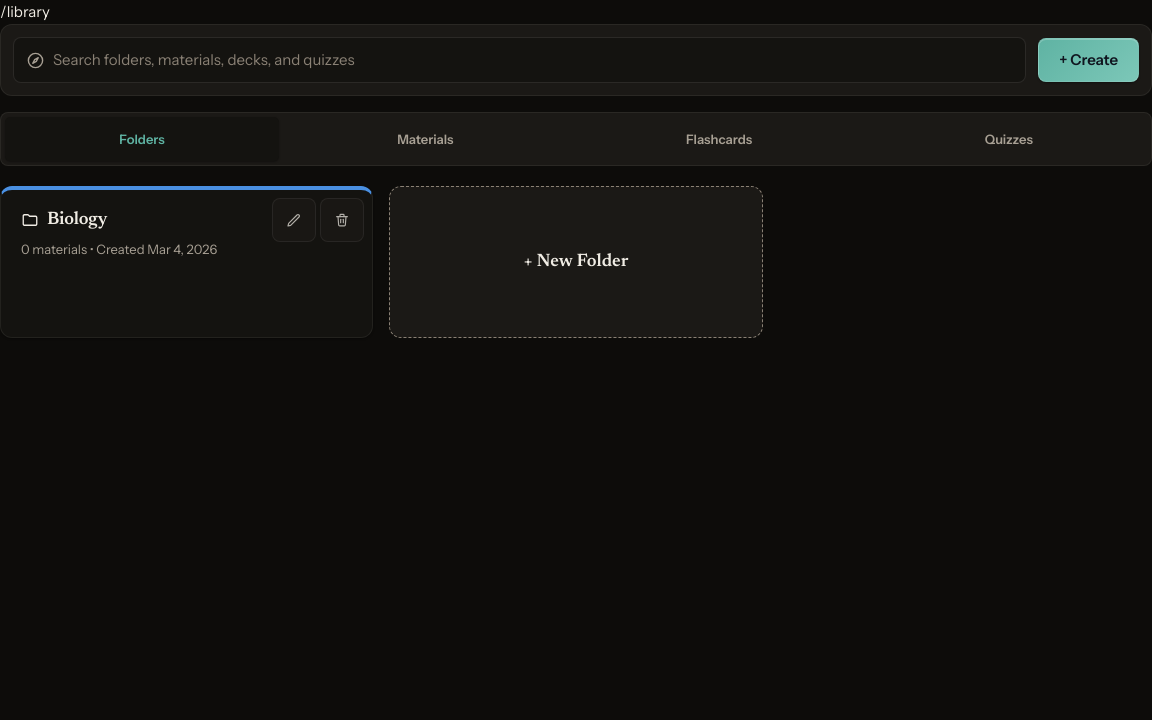
Test case: Library — Folders tab › warns what a folder delete takes with it, then deletes on confirm
The image size is (1152, 720).
Step 1. Click the button named "Delete Biology" → (342, 220), box [320, 198, 364, 242]
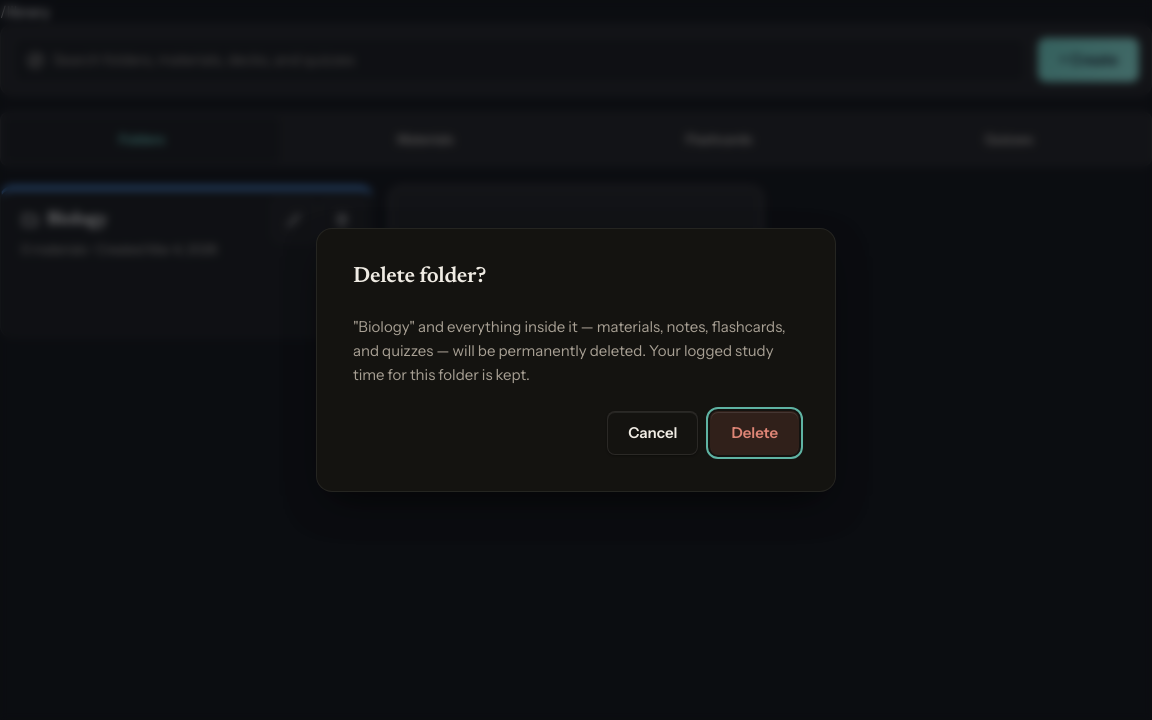
Result: the text "and everything inside it — materials, notes, flashcards, and quizzes — will be permanently deleted" is shown at [353, 317, 786, 384]
Step 2. Click the button "Delete" → (755, 433), box [710, 411, 799, 455]
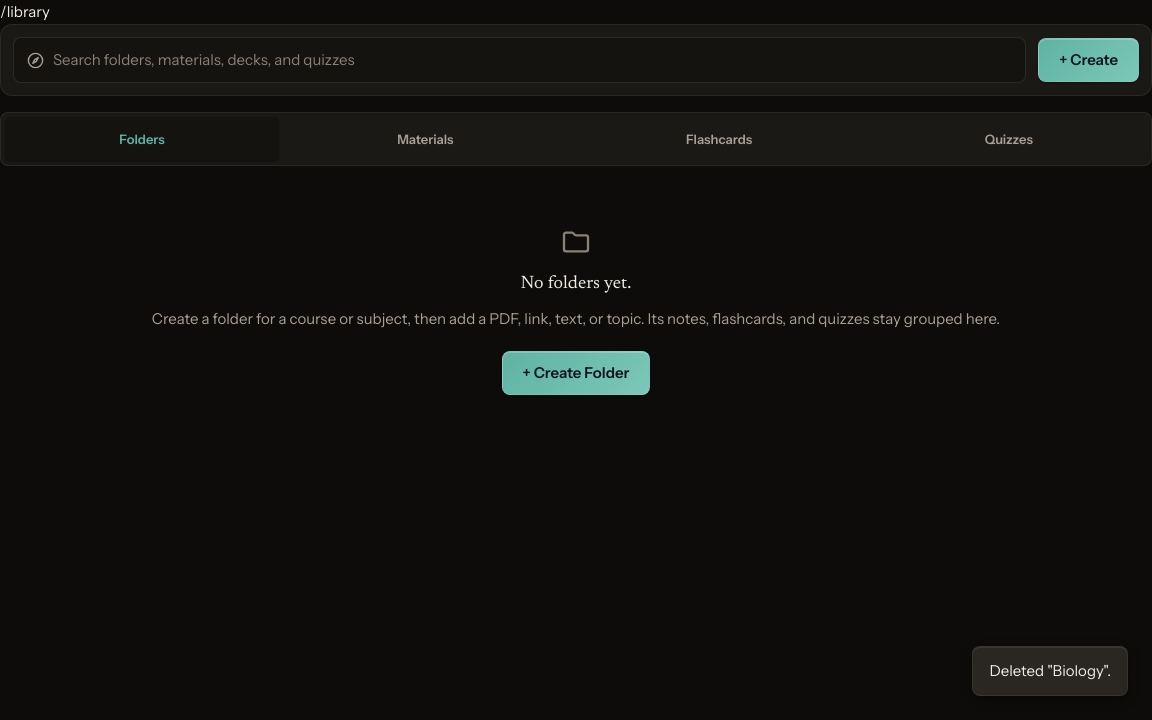
Result: the text "Deleted \"Biology\"." is shown at [990, 659, 1111, 683]
